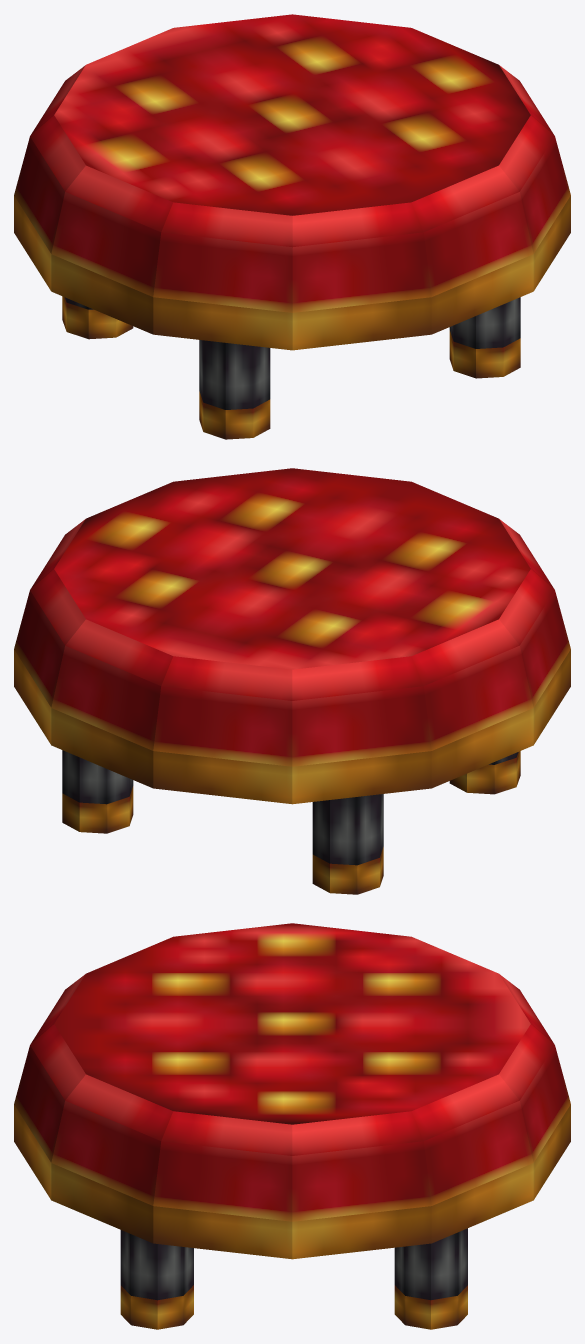
File: Inside_Poly_Chair_07.obj
The picture shows the model from 3 angles, top to bottom: view 1: azimuth 30°, elevation 25°; view 2: azimuth 150°, elevation 25°; view 3: azimuth 270°, elevation 25°; orthographic projection.
Visible parts, largest first — view 1: Cube.001, Cube; view 2: Cube.001, Cube; view 3: Cube.001, Cube.
Boxes of the visible parts, <box> form: Cube.001: <box>14,14,570,350</box>; Cube: <box>62,296,520,439</box>; Cube.001: <box>14,468,570,804</box>; Cube: <box>62,750,520,894</box>; Cube.001: <box>14,923,570,1259</box>; Cube: <box>120,1228,467,1329</box>.
Bounding box in the file's own units: 0.69 × 0.3135 × 0.69.
1 material, 1 textured.
